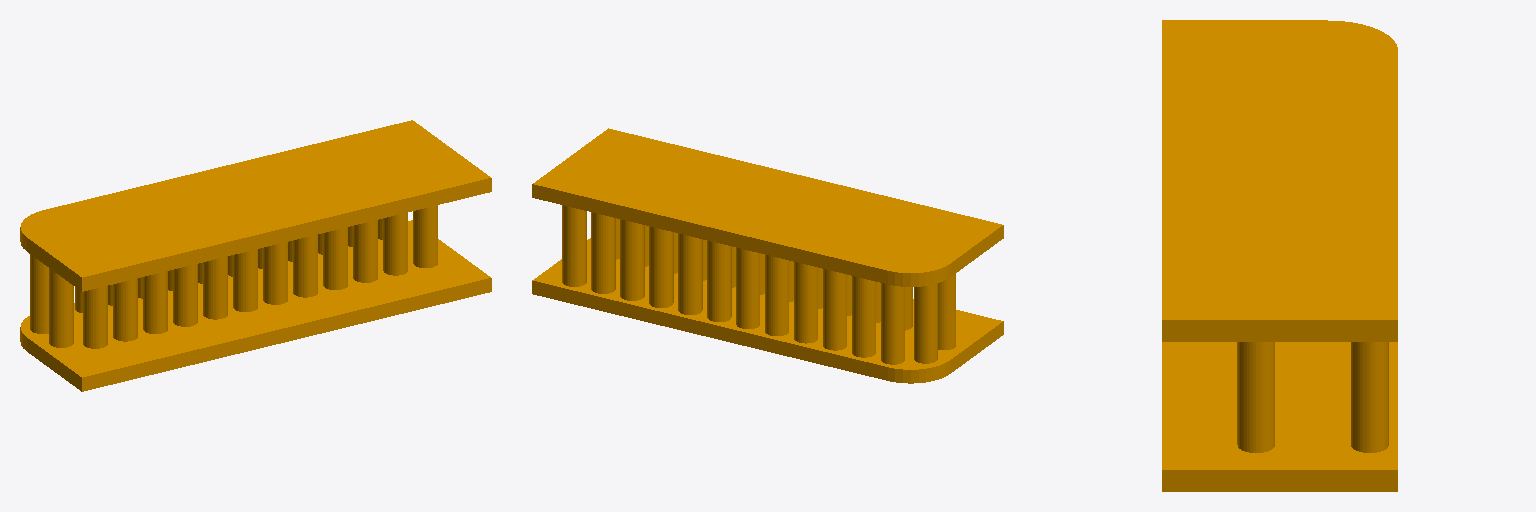
The robot description file, URDF, robot "platform":
<?xml version="1.0"?>
<robot name="platform">
  <link name="platform">
    <visual>
      	<geometry>
          	<mesh filename="package://process_visualizer/resources/platform.STL"/>
      	</geometry>
	  	<!-- <material name="darkorange" >
          	<color rgba="1 0.55 0 1.0" />
         </material> 	 -->
    </visual>
    <inertial>
      <origin xyz="0 0 0" rpy="0 0 0"/>
       <mass value="1"/>
      <inertia
        ixx="1.0" ixy="0.0" ixz="0.0"
        iyy="1.0" iyz="0.0"
        izz="1.0"/>
    </inertial>
  </link>


  <gazebo reference="platform">
    <material>Gazebo/ZincYellow</material>
  </gazebo>


  <link name="world"/>

  <joint name="fixed" type="fixed">
    <parent link="world"/>
    <child link="platform"/>
  </joint>

</robot>

--- Render facts (derived) ---
3 views of the same robot in one strip: view 1: azimuth 30°, elevation 25°; view 2: azimuth 150°, elevation 25°; view 3: azimuth 270°, elevation 25° (orthographic).
Model platform with 2 links and 1 joints (1 fixed), rooted at world, posed all joints at 0.
Visible links, largest first — view 1: platform; view 2: platform; view 3: platform.
Link boxes in pixels (x1,y1,x2,y2): platform: [20, 120, 491, 391]; platform: [532, 128, 1003, 383]; platform: [1162, 20, 1397, 491].
Size in the robot's own frame: 1.5 by 0.5 by 0.4 metres.
Meshes: 1 distinct files referenced, 1 mesh visuals loaded (1 binary STL).